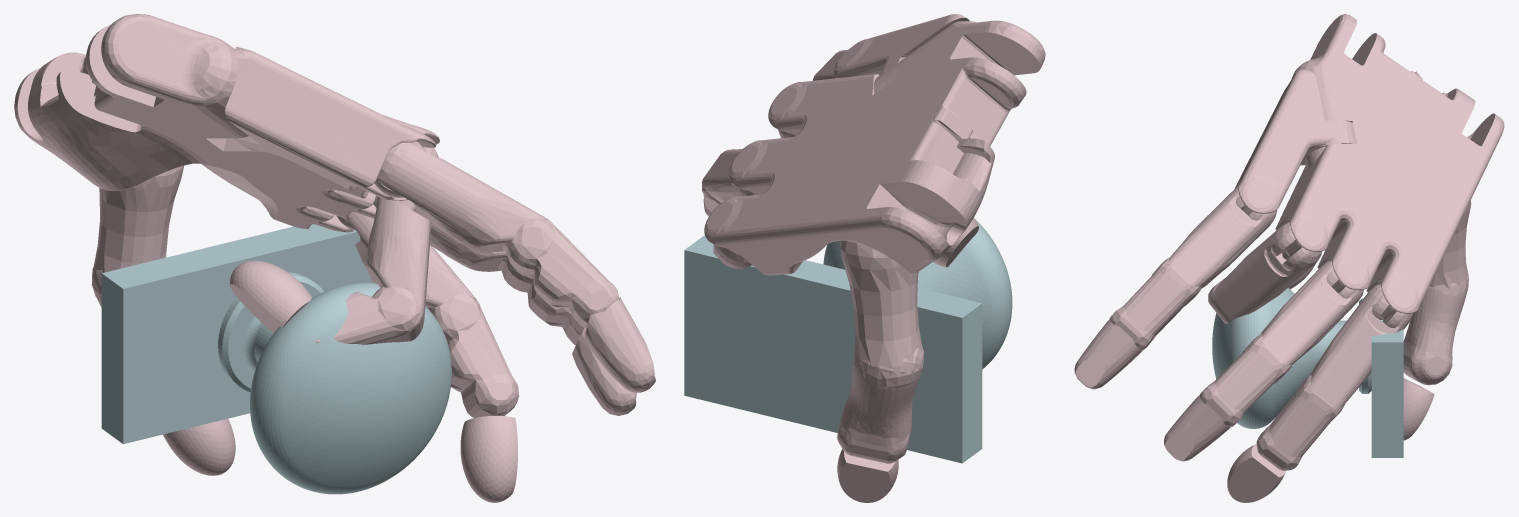
File: grasp_1.glb
3 renders of one model, left to right at view 1: azimuth 30°, elevation 25°; view 2: azimuth 150°, elevation 25°; view 3: azimuth 270°, elevation 25°, orthographic. The views are drawn at different scales.
Visible parts, largest first — view 1: world; view 2: world; view 3: world.
Part boxes in pixels (<box>): world: <box>14,14,655,502</box>; world: <box>684,14,1045,502</box>; world: <box>1074,14,1504,502</box>.
Size of the model in its own units: 0.1454 by 0.1648 by 0.1686.
